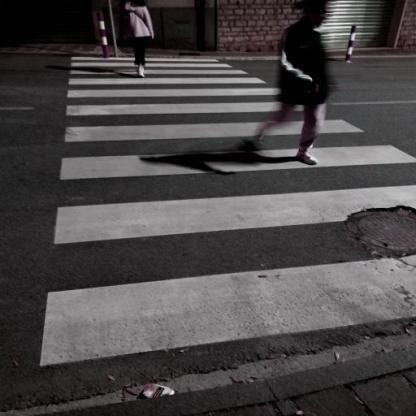crosswalk: (52, 116, 414, 184), (63, 68, 270, 86)
